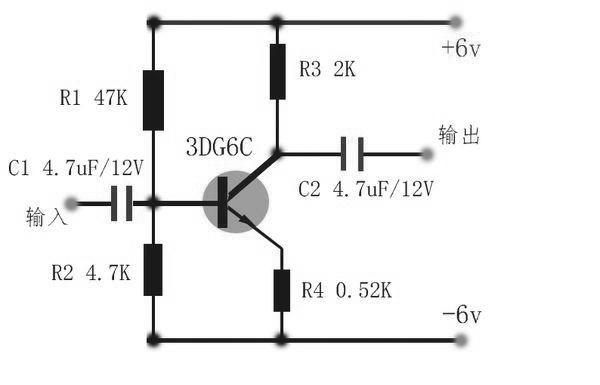cap1: (336, 131, 369, 177), (106, 181, 137, 227)
res1: (140, 66, 167, 136), (140, 241, 166, 300), (266, 40, 289, 104), (271, 265, 293, 315)
triode: (203, 143, 286, 254)
